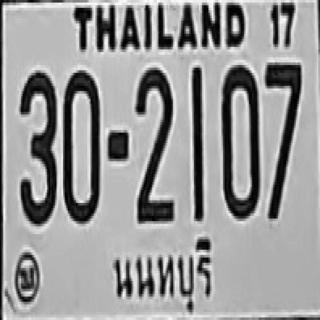N00: (221, 63, 259, 218), (62, 69, 99, 222)
N01: (192, 64, 203, 220)
N02: (134, 66, 173, 222)
N03: (19, 72, 56, 225)
N07: (263, 60, 301, 219)
P37: (102, 232, 217, 313)
